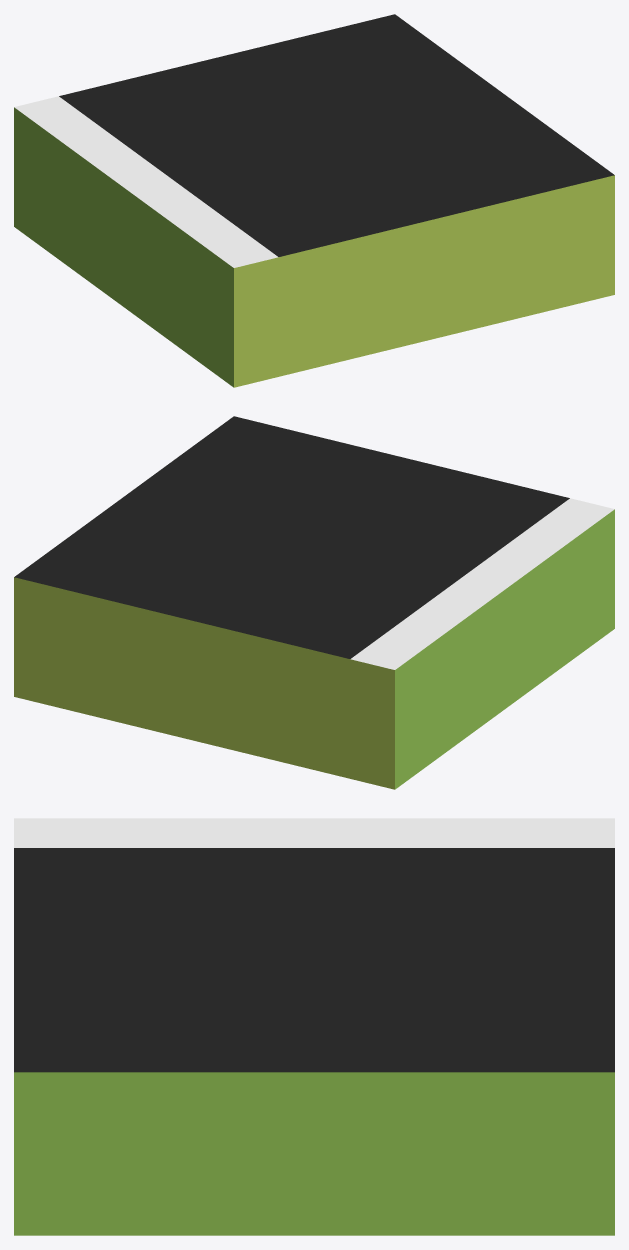
Rendered from floor_road4.fbx.
The picture shows the model from 3 angles, top to bottom: view 1: azimuth 30°, elevation 25°; view 2: azimuth 150°, elevation 25°; view 3: azimuth 270°, elevation 25°; orthographic projection. The views are drawn at different scales.
Visible parts, largest first — view 1: floor_road4; view 2: floor_road4; view 3: floor_road4.
Boxes of the visible parts, x1,y1,x2,y2 form: floor_road4: (14, 14, 614, 387); floor_road4: (14, 416, 614, 789); floor_road4: (14, 818, 614, 1235).
Size of the model in its own units: 100 by 30 by 100.
